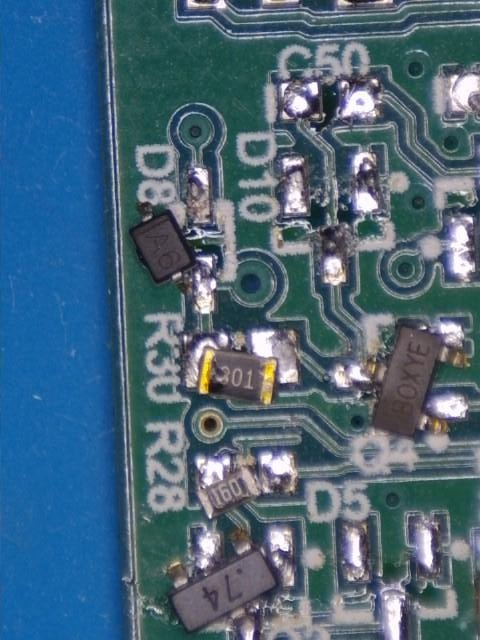pcb_defect: (335, 323, 468, 440), (165, 527, 293, 640), (129, 202, 214, 312), (183, 330, 298, 406), (195, 454, 296, 522)
